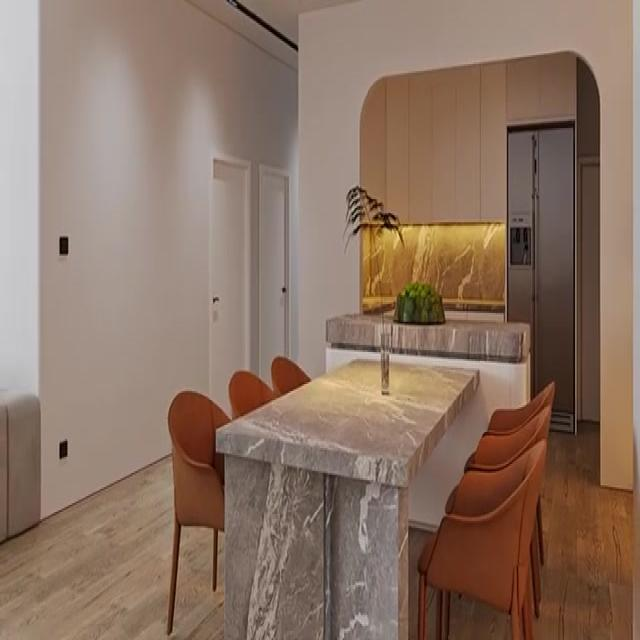door: (209, 158, 249, 434), (256, 165, 290, 421)
obstacle: (214, 356, 479, 638), (506, 121, 576, 434), (166, 389, 231, 633)
